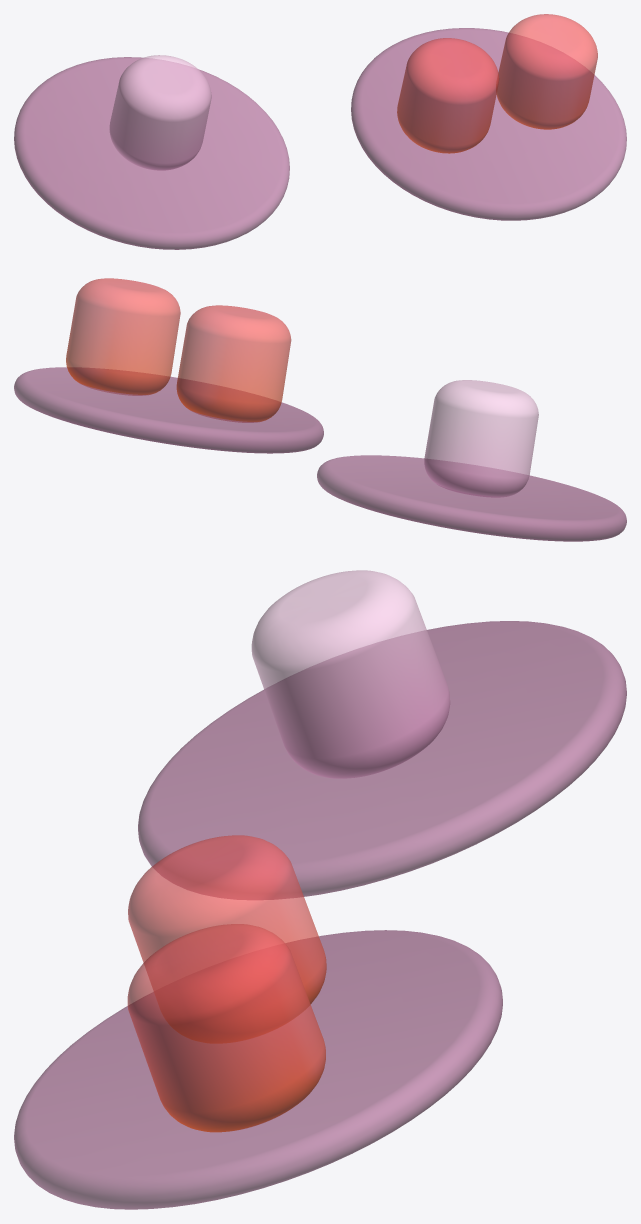
The model's file is marshmallow.glb.
The picture shows the model from 3 angles, top to bottom: view 1: azimuth 30°, elevation 25°; view 2: azimuth 150°, elevation 25°; view 3: azimuth 270°, elevation 25°; orthographic projection. The views are drawn at different scales.
Parts seen in each view (by area): view 1: plate_now, plate_later, marshmallow_1, marshmallow_2, marshmallow_3; view 2: plate_now, plate_later, marshmallow_2, marshmallow_3, marshmallow_1; view 3: plate_now, plate_later, marshmallow_1, marshmallow_3, marshmallow_2.
Boxes of the visible parts, x1,y1,x2,y2 form: plate_now: (14, 57, 289, 249); plate_later: (351, 28, 626, 220); marshmallow_1: (109, 55, 211, 170); marshmallow_2: (397, 38, 499, 153); marshmallow_3: (496, 14, 597, 129); plate_now: (317, 455, 626, 541); plate_later: (14, 367, 323, 453); marshmallow_2: (176, 305, 291, 422); marshmallow_3: (66, 278, 180, 395); marshmallow_1: (424, 380, 538, 496); plate_now: (138, 621, 626, 899); plate_later: (14, 930, 502, 1209); marshmallow_1: (251, 570, 450, 778); marshmallow_3: (127, 924, 325, 1132); marshmallow_2: (128, 835, 326, 1042).
Size of the model in its own units: 1.13 by 0.32 by 0.5973.
